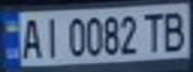0: (63, 14, 87, 57), (84, 14, 106, 57)
2: (118, 11, 142, 56)
8: (103, 12, 124, 56)
A: (18, 15, 45, 60)
B: (160, 7, 190, 53)
I: (39, 14, 63, 58)
T: (139, 9, 166, 54)
